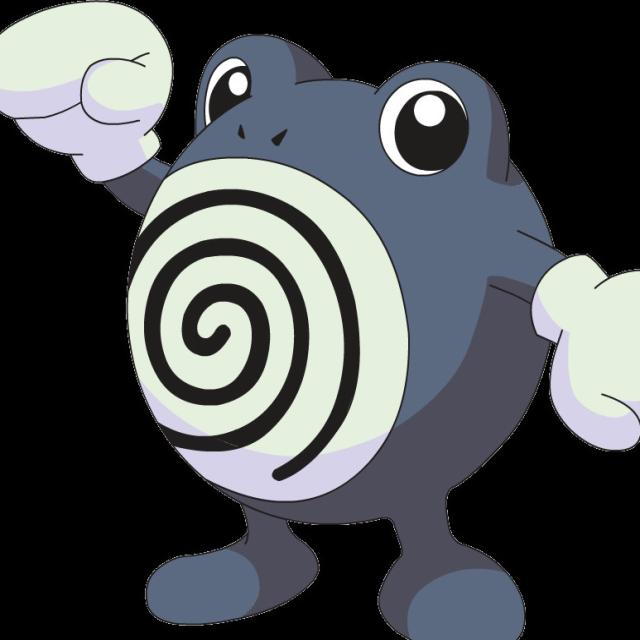Poliwhirl: (49, 2, 620, 640)
